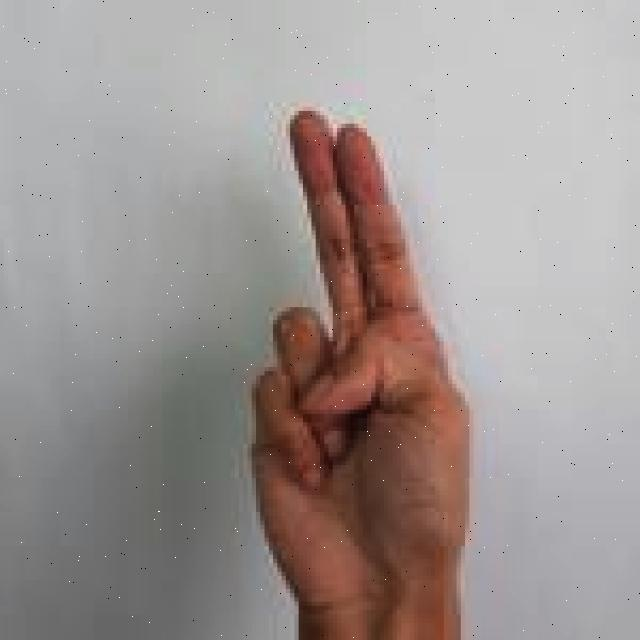U: (232, 103, 480, 640)
